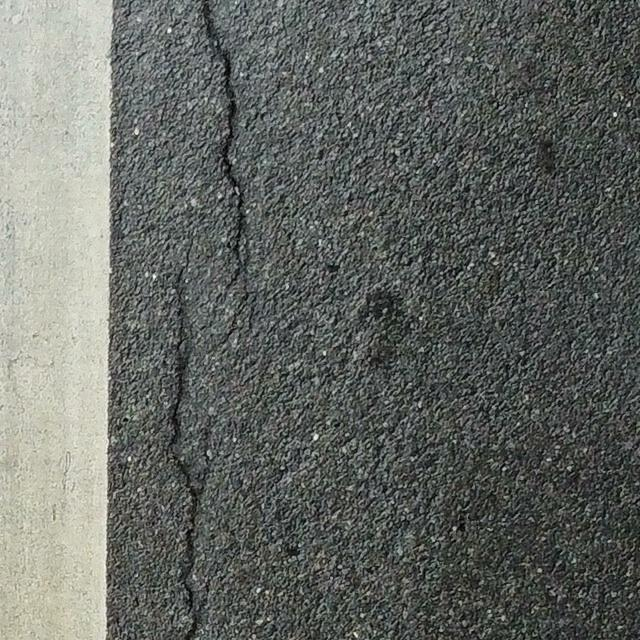LongitudinalCrack: (166, 268, 204, 640), (202, 1, 249, 291)
